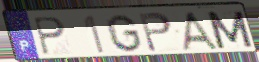1: (82, 14, 107, 56)
A: (180, 11, 221, 52)
G: (105, 13, 145, 53)
M: (204, 9, 256, 50)
P: (137, 11, 174, 54), (31, 16, 68, 57)
